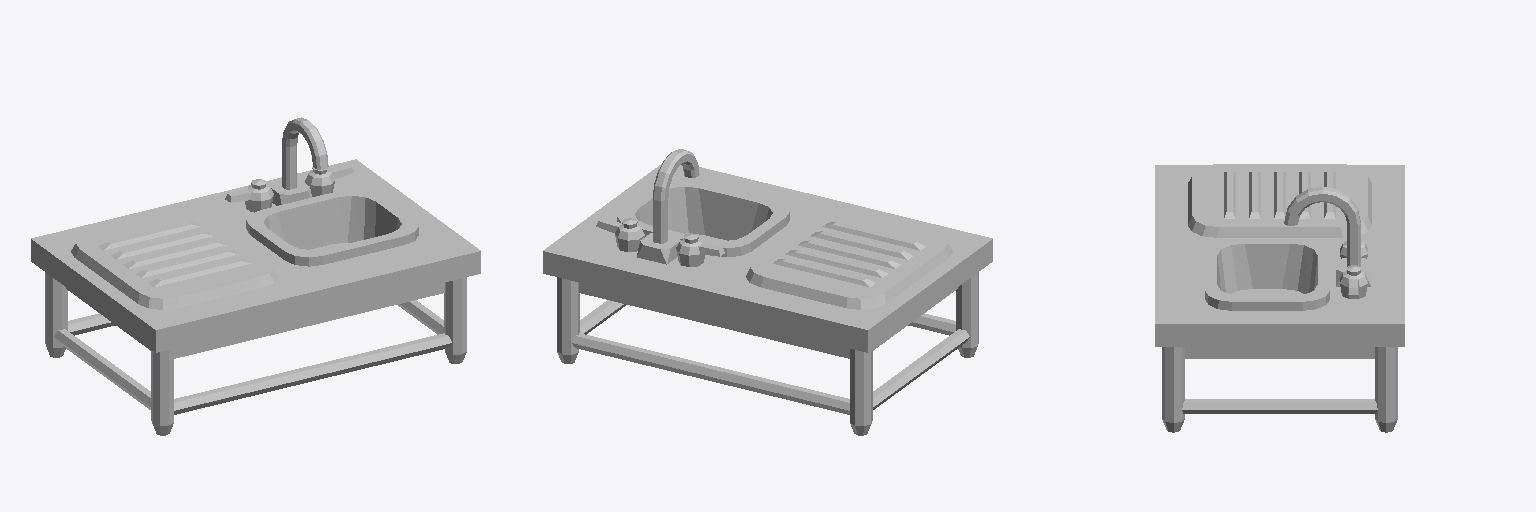
Rendered from kitchentable_sink_large.obj.
3 renders of one model, left to right at view 1: azimuth 30°, elevation 25°; view 2: azimuth 150°, elevation 25°; view 3: azimuth 270°, elevation 25°, orthographic.
Visible parts, largest first — view 1: kitchentable_sink_large_Cube.988; view 2: kitchentable_sink_large_Cube.988; view 3: kitchentable_sink_large_Cube.988.
Part boxes in pixels (x1,y1,x2,y2): kitchentable_sink_large_Cube.988: (31, 117, 480, 435); kitchentable_sink_large_Cube.988: (543, 149, 992, 435); kitchentable_sink_large_Cube.988: (1155, 164, 1404, 432).
Size of the model in its own units: 3 by 1.8 by 2.